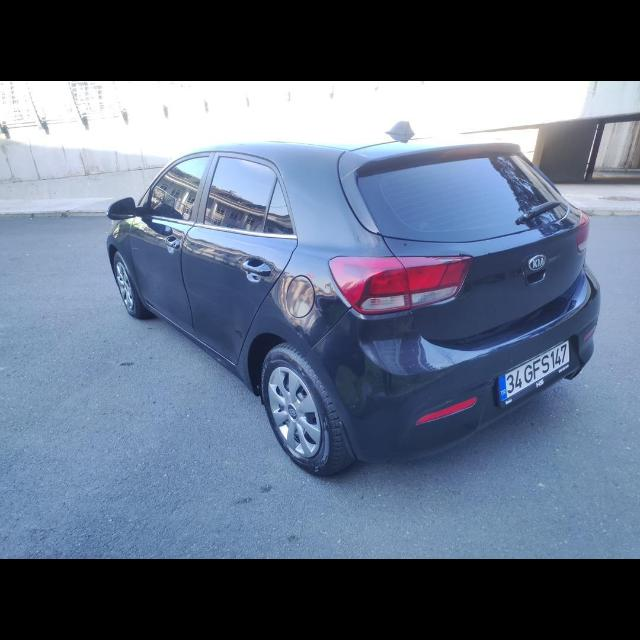Plaka: (498, 336, 568, 400)
